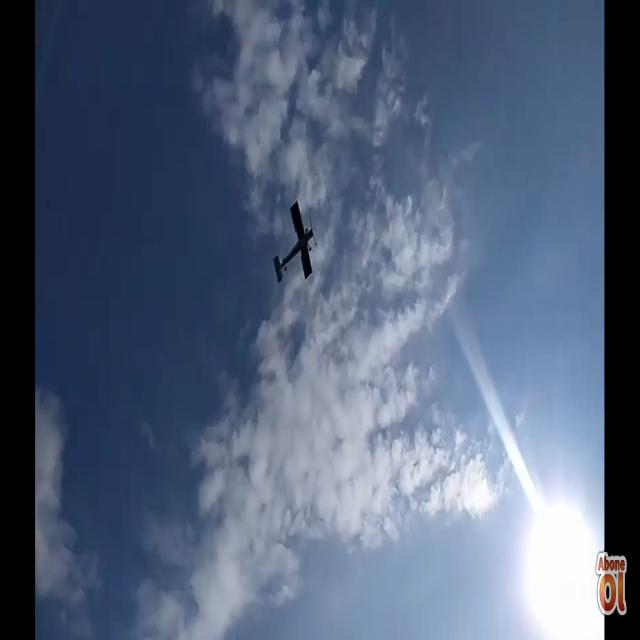iha: (273, 231, 317, 252)
